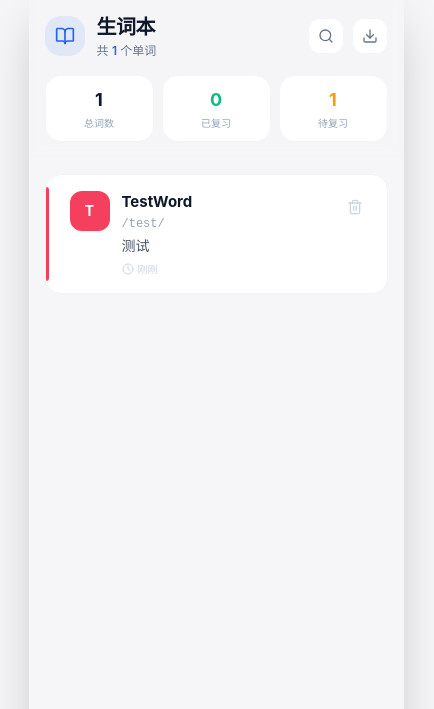
Test case: VocabularyPage 生词本页面 › 删除单词 › 点击删除按钮应从生词本移除单词
Expected: the heading "TestWord" is shown, [122,191,192,214]
Click the button without text next to "TestWord" at coordinates (354, 207), box [338,191,370,223]
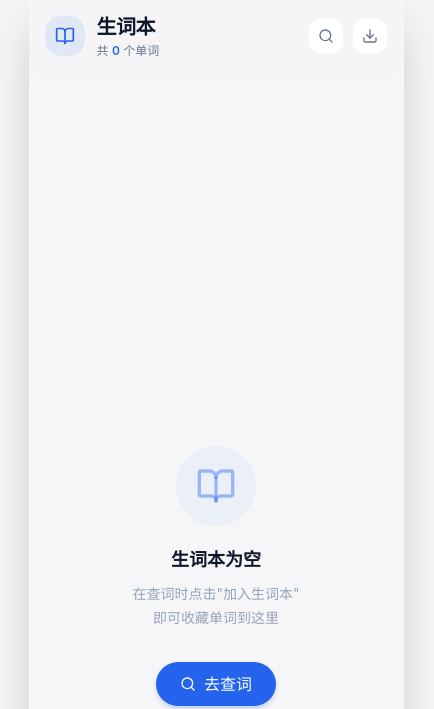
Now the heading "TestWord" is gone
